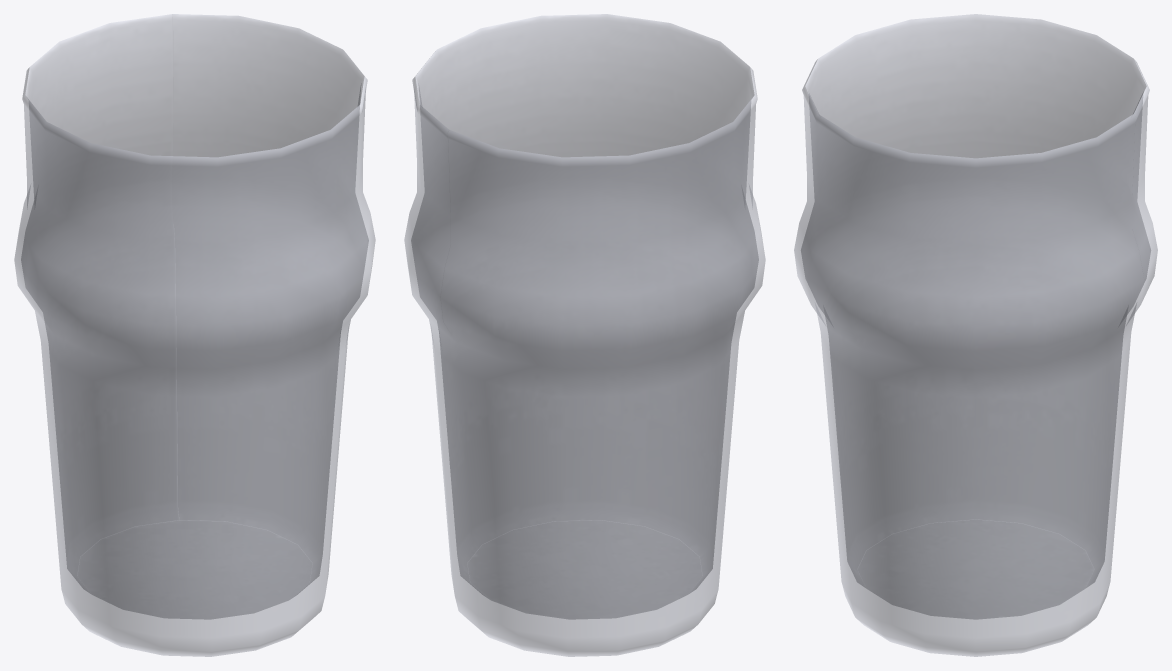
The model's file is SM_HalfPint_Glass_01.glb.
The picture shows the model from 3 angles, left to right: view 1: azimuth 30°, elevation 25°; view 2: azimuth 150°, elevation 25°; view 3: azimuth 270°, elevation 25°; orthographic projection.
Visible parts, largest first — view 1: SM_HalfPint_Glass_01; view 2: SM_HalfPint_Glass_01; view 3: SM_HalfPint_Glass_01.
Boxes of the visible parts, x1=… form: SM_HalfPint_Glass_01: x1=14, y1=14, x2=375, y2=656; SM_HalfPint_Glass_01: x1=404, y1=14, x2=765, y2=656; SM_HalfPint_Glass_01: x1=794, y1=14, x2=1157, y2=656.
Bounding box in the file's own units: 0.076 × 0.1197 × 0.076.
1 material, 1 textured.
